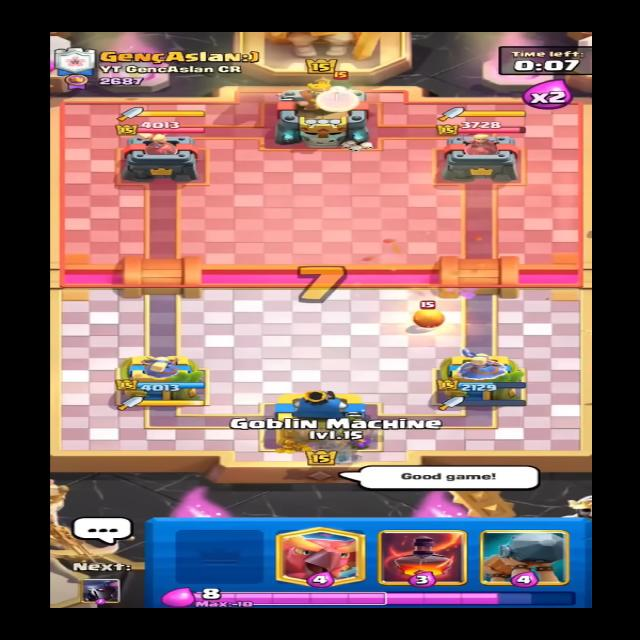Bandit: (325, 68, 366, 94)
Pheonixegg: (408, 295, 452, 331)
